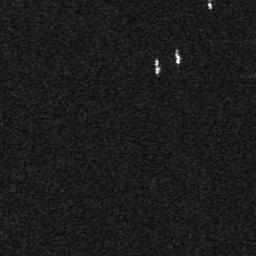ship: (153, 57, 161, 76), (175, 51, 181, 65)
